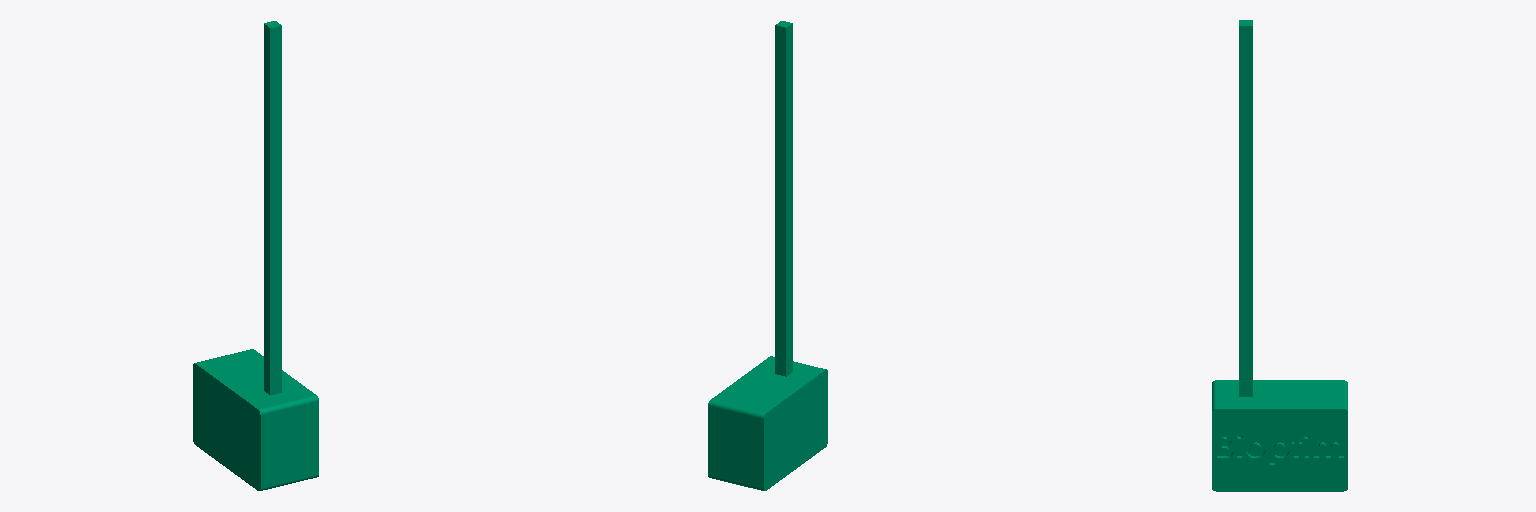
robot.urdf — Pendulum:
<?xml version="1.0"?>
<robot name="Pendulum">

  <!-- World link -->
  <link name="world"/>

  <!-- Intermediate link for Y translation -->
  <link name="Seg1_translation_link"/>

  <!-- Prismatic joint: translation along y -->
  <joint name="Seg1_translation_y" type="prismatic">
    <parent link="world"/>
    <child link="Seg1_translation_link"/>

    <origin xyz="0 0 0" rpy="0 0 0"/>
    <axis xyz="0 1 0"/>

    <limit lower="-1" upper="5" effort="1000" velocity="100"/>
  </joint>

  <!-- Main segment link -->
  <link name="Seg1">
    <inertial>
      <!-- Center of mass -->
      <origin xyz="-0.0005 0.0688 -0.9542" rpy="0 0 0"/>

      <mass value="1"/>

      <inertia
        ixx="0.0391"
        ixy="0.0000"
        ixz="0.0000"
        iyy="0.0335"
        iyz="-0.0032"
        izz="0.0090"/>
    </inertial>

    <visual>
      <origin xyz="0 0 0" rpy="0 0 0"/>
      <geometry>
        <mesh filename="mesh/pendulum.STL"/>
      </geometry>
    </visual>

    <collision>
      <origin xyz="0 0 0" rpy="0 0 0"/>
      <geometry>
        <mesh filename="mesh/pendulum.STL"/>
      </geometry>
    </collision>
  </link>

  <!-- Revolute joint: rotation about x -->
  <joint name="Seg1_rotation_x" type="revolute">
    <parent link="Seg1_translation_link"/>
    <child link="Seg1"/>

    <origin xyz="0 0 0" rpy="0 0 0"/>
    <axis xyz="1 0 0"/>

    <limit lower="-6.28318530718"
           upper="6.28318530718"
           effort="1000"
           velocity="100"/>
  </joint>

  <!-- Marker 1 -->
  <link name="marker_1"/>

  <joint name="marker_1_fixed" type="fixed">
    <parent link="Seg1"/>
    <child link="marker_1"/>
    <origin xyz="0 0 0" rpy="0 0 0"/>
  </joint>

  <!-- Marker 2 -->
  <link name="marker_2"/>

  <joint name="marker_2_fixed" type="fixed">
    <parent link="Seg1"/>
    <child link="marker_2"/>
    <origin xyz="-0.0005 0.0688 -0.9542" rpy="0 0 0"/>
  </joint>

</robot>

--- Render facts (derived) ---
Views: 3 orthographic renders of the robot side by side, from view 1: azimuth 30°, elevation 25°; view 2: azimuth 150°, elevation 25°; view 3: azimuth 270°, elevation 25°.
Model Pendulum with 5 links and 4 joints (1 revolute, 1 prismatic, 2 fixed), rooted at world, posed all joints at 0.
Visible links, largest first — view 1: Seg1; view 2: Seg1; view 3: Seg1.
Link boxes in pixels (x1,y1,x2,y2): Seg1: (193,21,318,490); Seg1: (708,21,827,490); Seg1: (1212,20,1347,491).
Size in the robot's own frame: 0.15 by 0.3 by 1.1 metres.
Meshes: 1 distinct files referenced, 1 mesh visuals loaded (1 binary STL).
